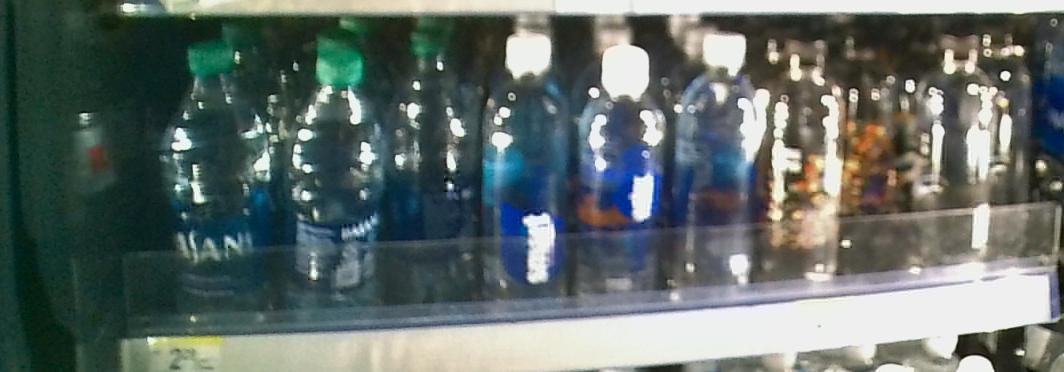bottle: (163, 41, 271, 316), (287, 47, 388, 331), (394, 44, 478, 318), (488, 33, 570, 312), (582, 47, 666, 318), (678, 32, 760, 291), (773, 43, 847, 301)
